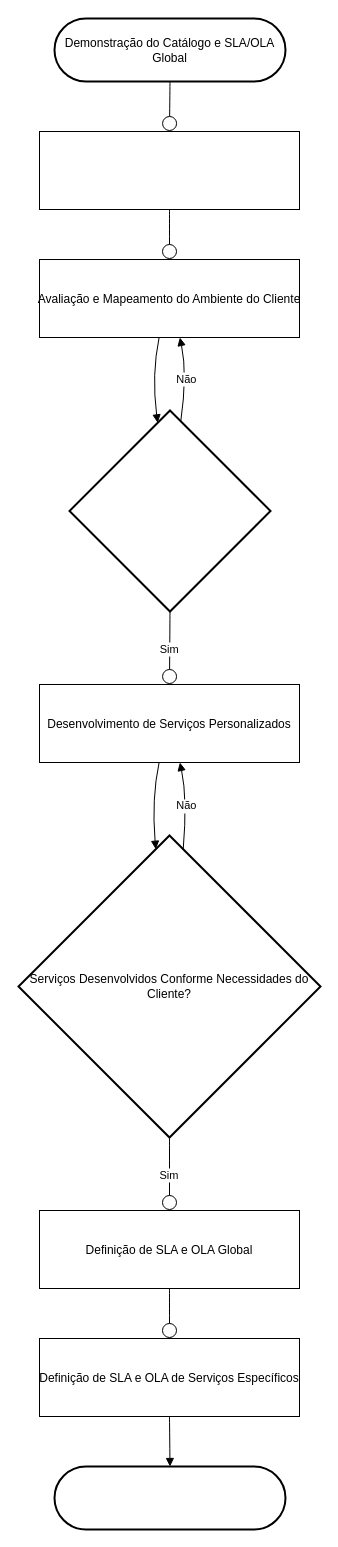
Image size: 338x1547. Some labels were removed from this diagram. The box of each missing label's shape, as (x1, y1, x2, y2) in pixels:
Aprovação Final do Catálogo pelo Cliente: (53, 1465, 286, 1530)
Avaliação Completa?: (68, 409, 271, 612)
Desenvolvimento do Catálogo de Serviços Global: (38, 130, 300, 210)
